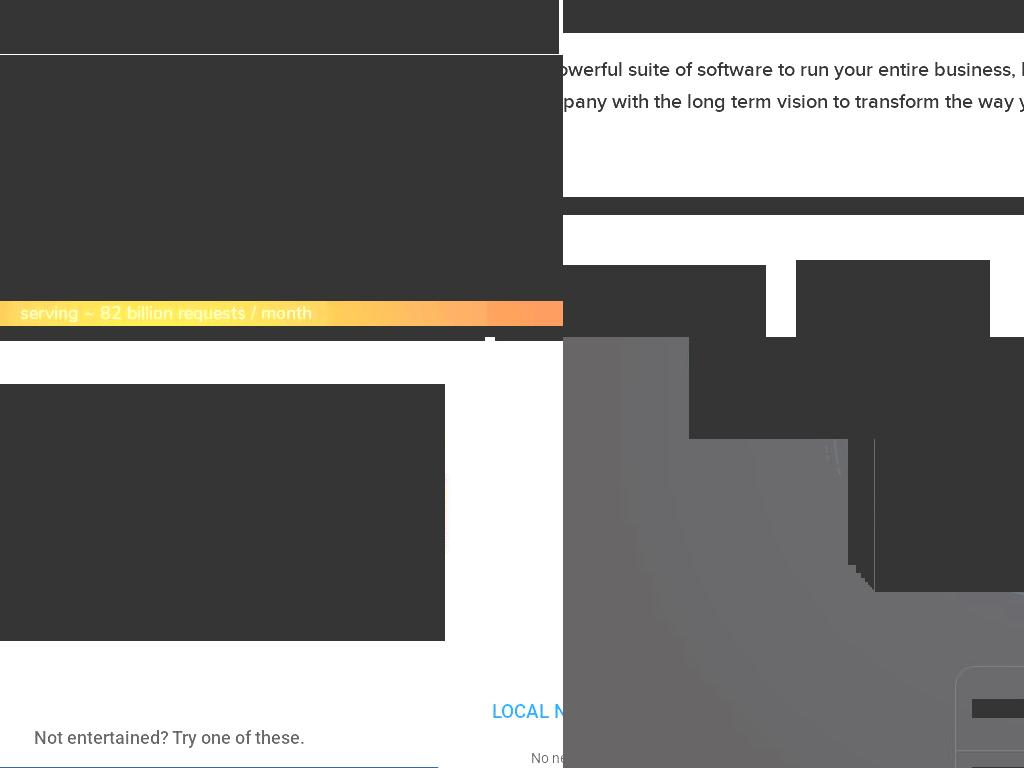button: (0, 384, 445, 641), (445, 384, 563, 641), (796, 260, 990, 337), (455, 0, 559, 54), (228, 0, 320, 54), (78, 0, 165, 54), (0, 0, 78, 54), (320, 0, 397, 54), (405, 472, 450, 553), (165, 0, 228, 54), (397, 0, 455, 54)
heading: (0, 175, 563, 227), (0, 247, 563, 286), (0, 575, 349, 622), (563, 0, 1024, 33), (563, 197, 1024, 215), (0, 728, 431, 747), (475, 575, 563, 622), (563, 325, 746, 337)
image: (0, 55, 563, 337), (848, 337, 1024, 565), (856, 337, 1024, 573), (861, 337, 1024, 578), (865, 337, 1024, 582), (868, 337, 1024, 585), (870, 337, 1024, 587), (872, 337, 1024, 589), (873, 337, 1024, 590), (874, 337, 1024, 591), (875, 337, 1024, 592), (689, 337, 876, 439), (796, 260, 861, 324), (972, 699, 1024, 718), (416, 492, 439, 533)
label: (876, 290, 990, 311)
link: (876, 326, 976, 337), (475, 560, 509, 575)
text: (563, 53, 1024, 117), (0, 301, 563, 326), (492, 698, 563, 728), (876, 260, 915, 289), (332, 13, 375, 35), (521, 562, 563, 575), (0, 562, 29, 575), (418, 620, 432, 634), (407, 620, 418, 634), (400, 620, 407, 634)
